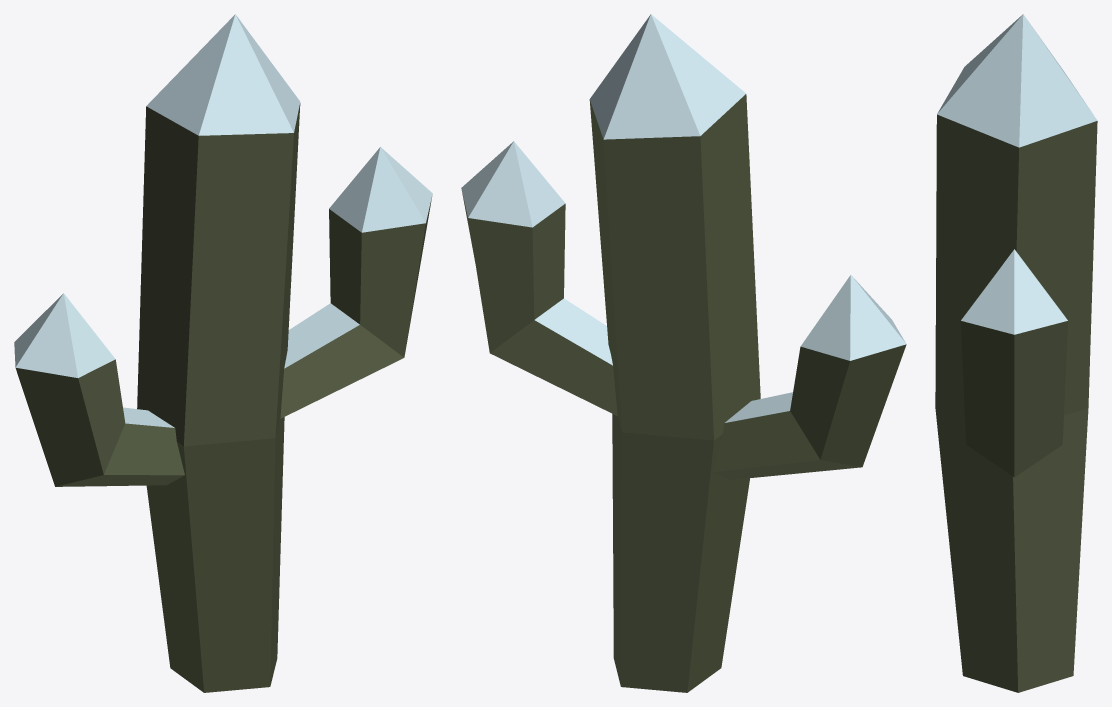
Rendered from SM_Env_Western_Cactus_01_Snow.fbx.
3 views of the same model, side by side, from view 1: azimuth 30°, elevation 25°; view 2: azimuth 150°, elevation 25°; view 3: azimuth 270°, elevation 25° (orthographic).
Parts seen in each view (by area): view 1: SM_Env_Western_Cactus_01_Snow; view 2: SM_Env_Western_Cactus_01_Snow; view 3: SM_Env_Western_Cactus_01_Snow.
Part boxes in pixels (<box>): SM_Env_Western_Cactus_01_Snow: <box>14,14,432,692</box>; SM_Env_Western_Cactus_01_Snow: <box>461,14,906,692</box>; SM_Env_Western_Cactus_01_Snow: <box>935,14,1097,692</box>.
Bounding box in the file's own units: 54.47 × 78.95 × 17.59.
1 material, 1 textured.
